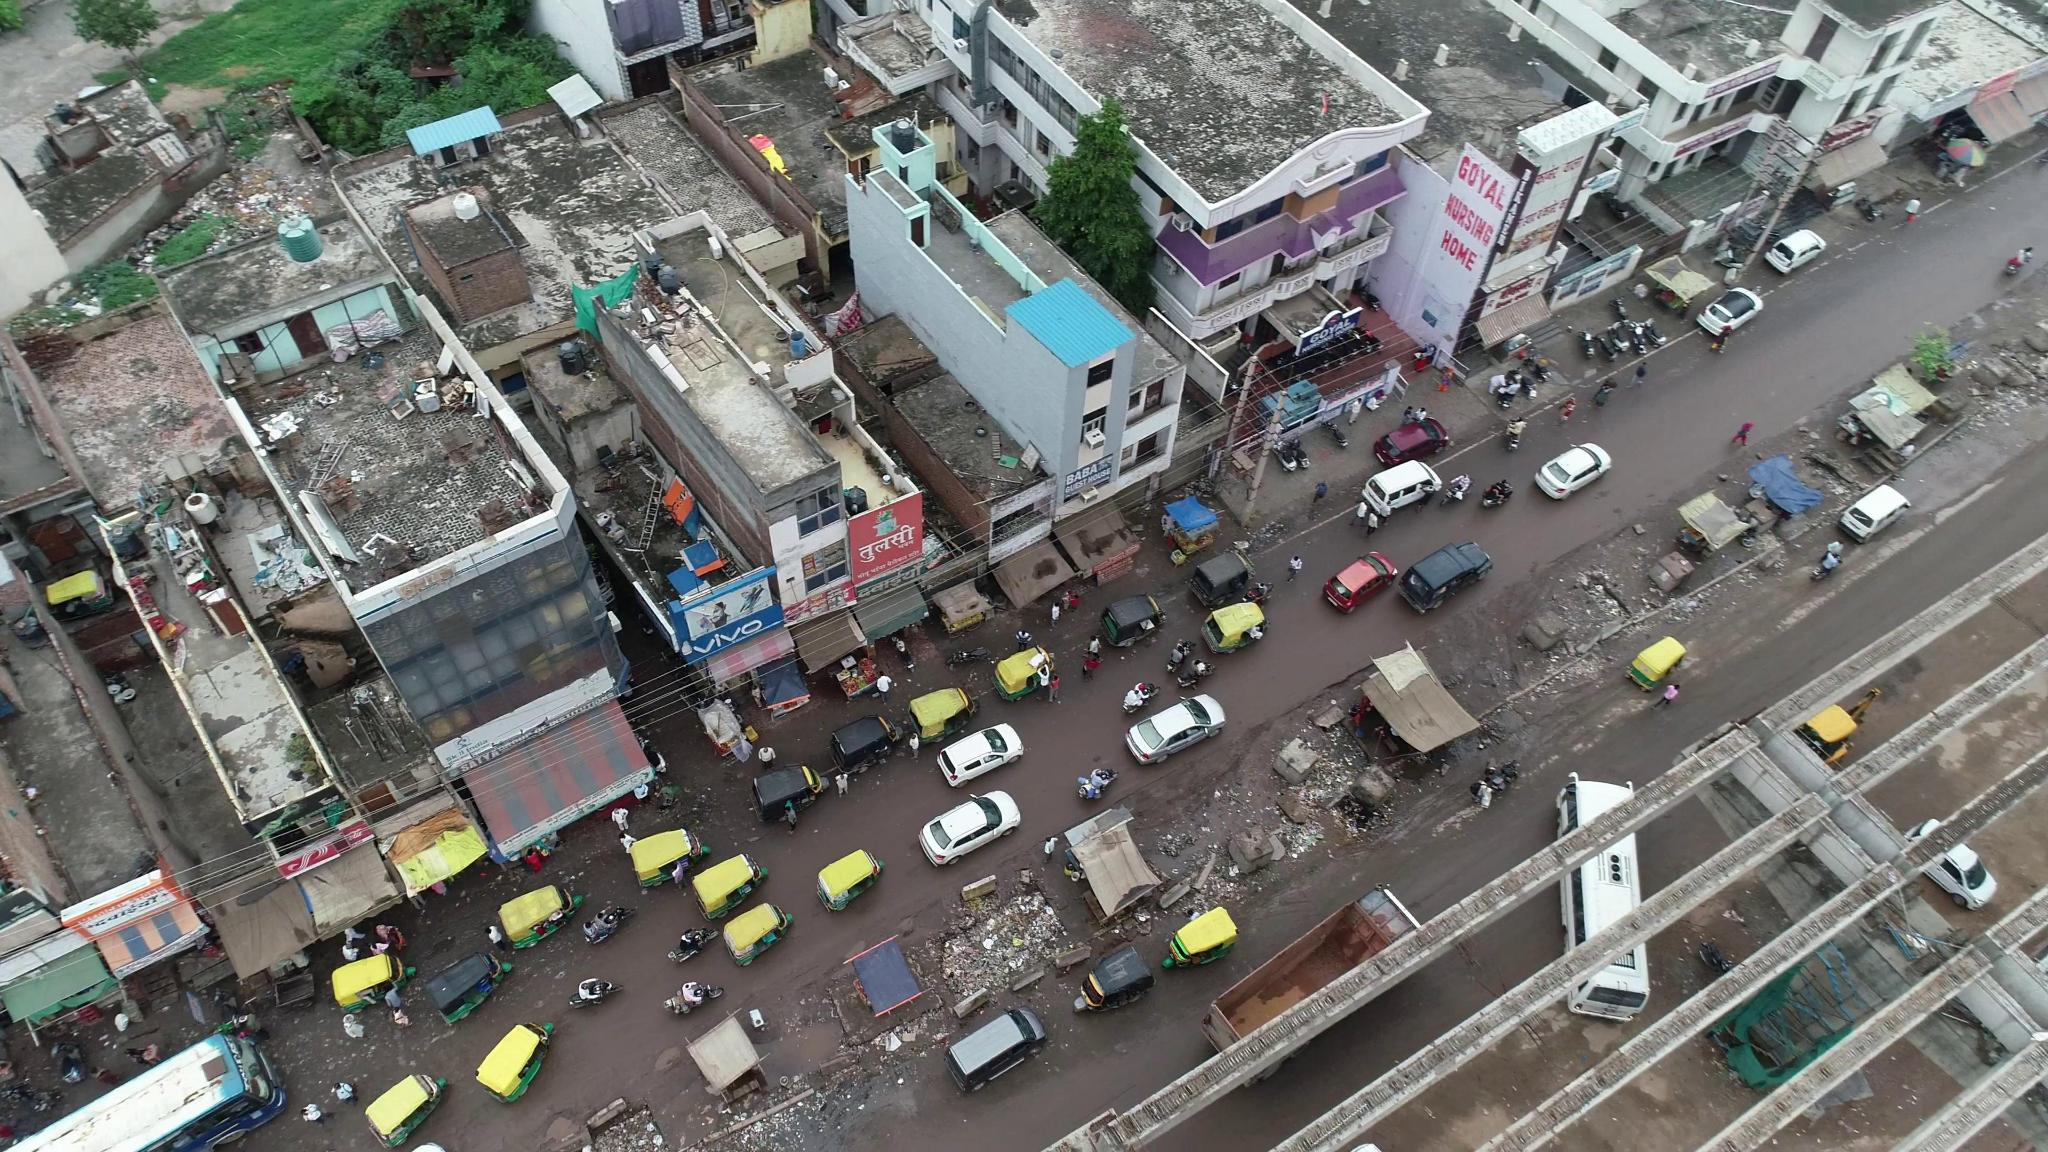Road_side_garbage: (952, 895, 1052, 999)
